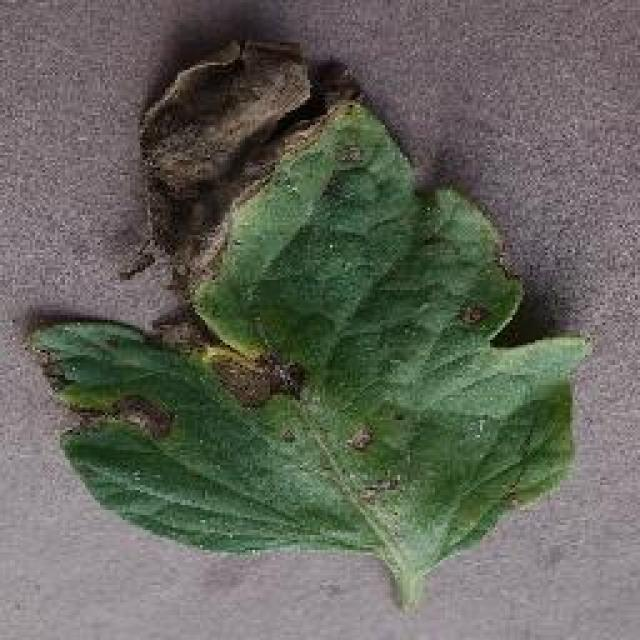Tomato Early blight leaf: (24, 39, 592, 574)
